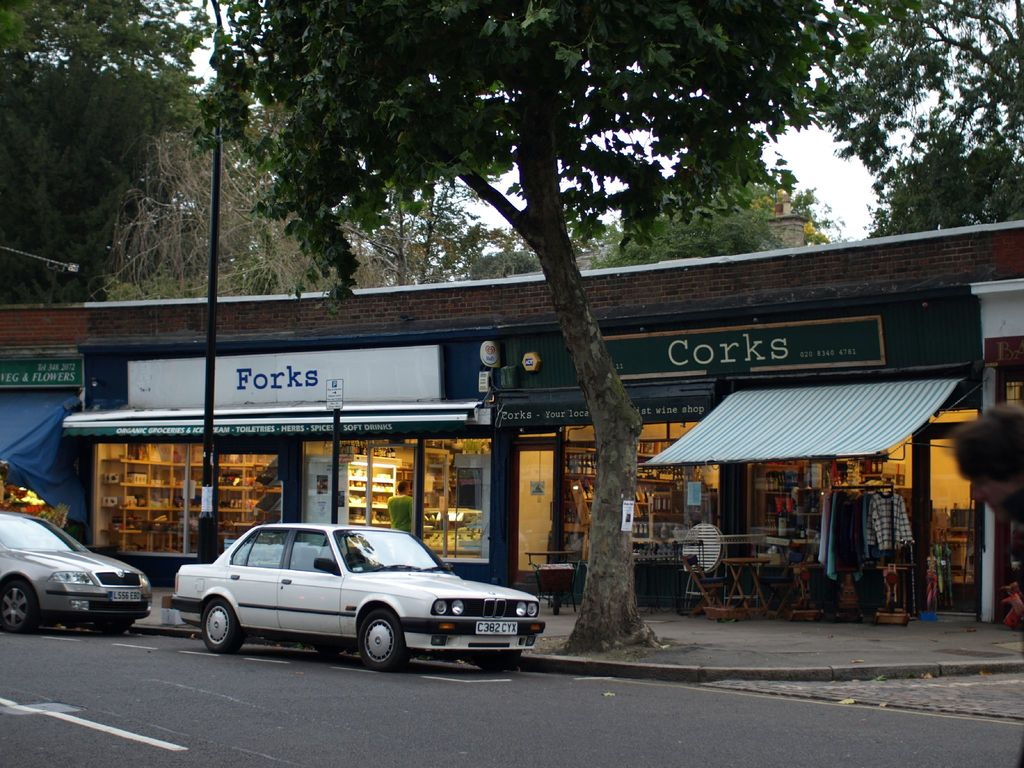Car: (167, 531, 533, 672), (0, 510, 152, 633)
